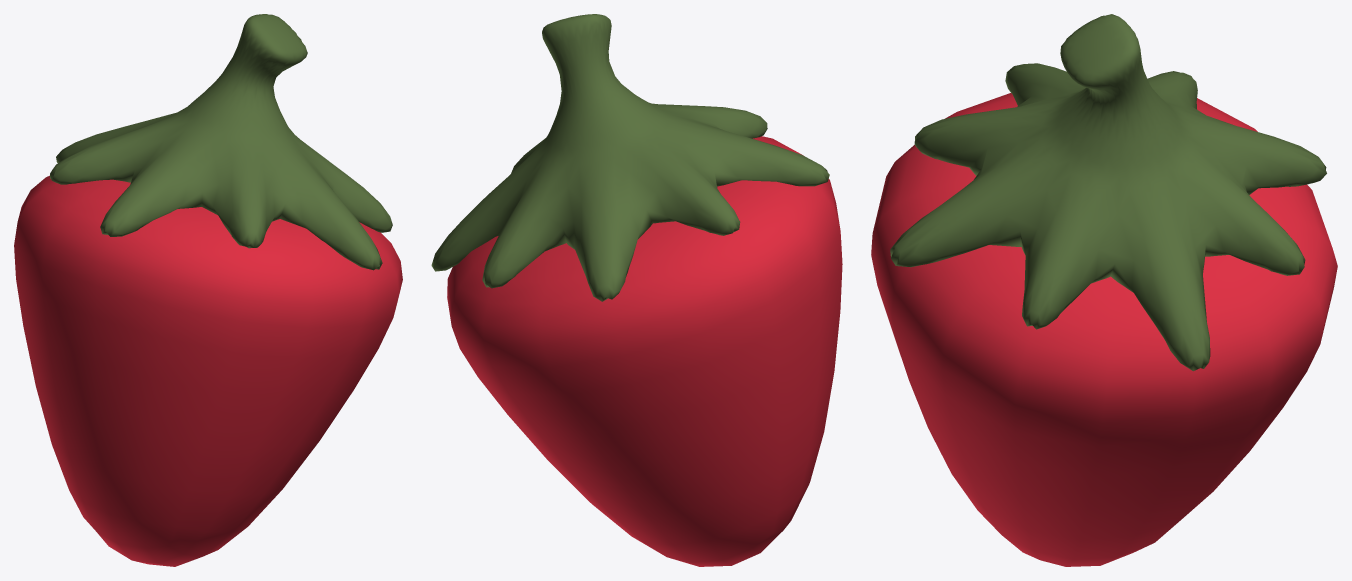
Rendered from market-strawberry.fbx.
3 views of the same model, side by side, from view 1: azimuth 30°, elevation 25°; view 2: azimuth 150°, elevation 25°; view 3: azimuth 270°, elevation 25° (orthographic). The views are drawn at different scales.
Visible parts, largest first — view 1: Cube.194; view 2: Cube.194; view 3: Cube.194.
Part boxes in pixels (bbox=[...]): Cube.194: bbox=[14, 14, 402, 566]; Cube.194: bbox=[431, 14, 842, 566]; Cube.194: bbox=[871, 14, 1337, 566].
Bounding box in the file's own units: 18.94 × 27.45 × 19.33.
